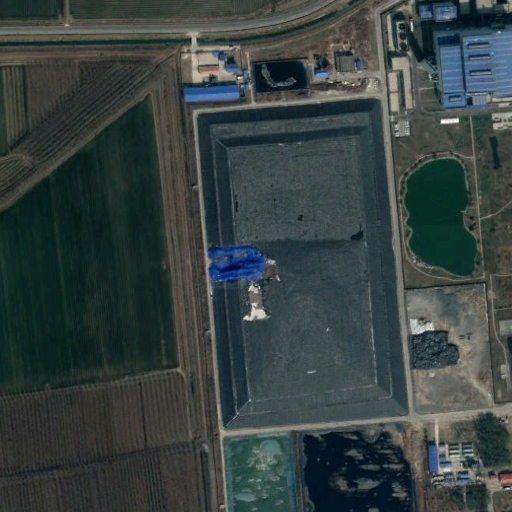lf: (192, 97, 428, 437)
